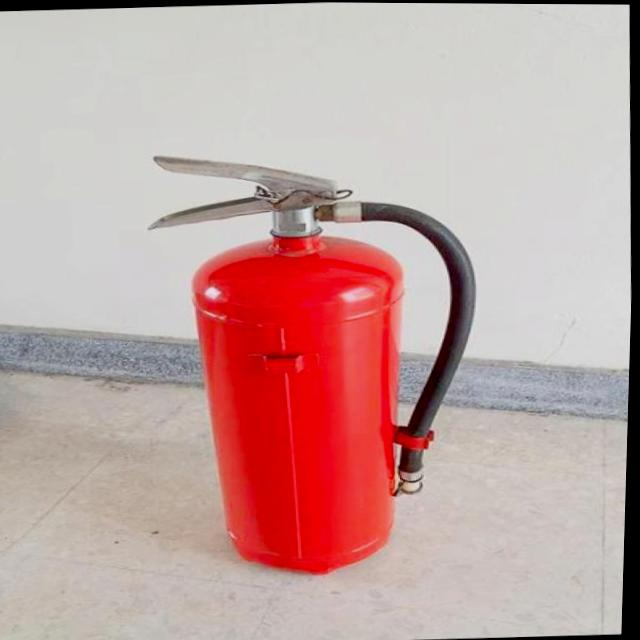FireExtinguisher: (130, 136, 502, 584)
